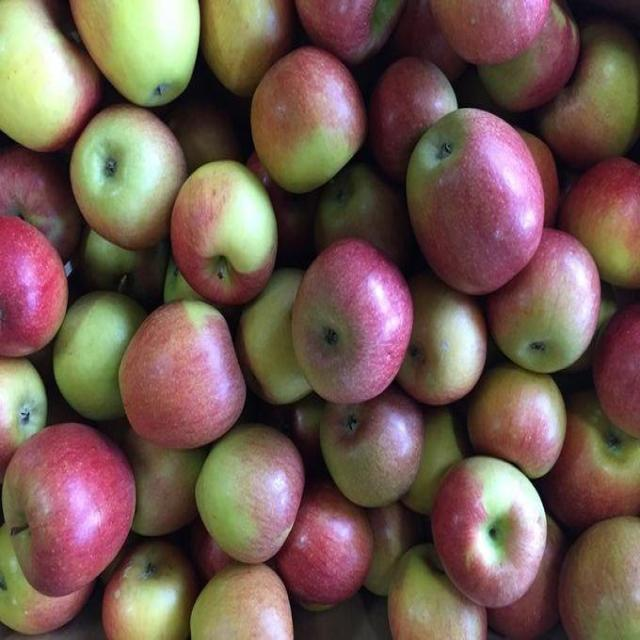Rotten Apple: (408, 110, 544, 294), (118, 300, 246, 448), (292, 246, 410, 404), (432, 457, 548, 607), (70, 110, 188, 254)
